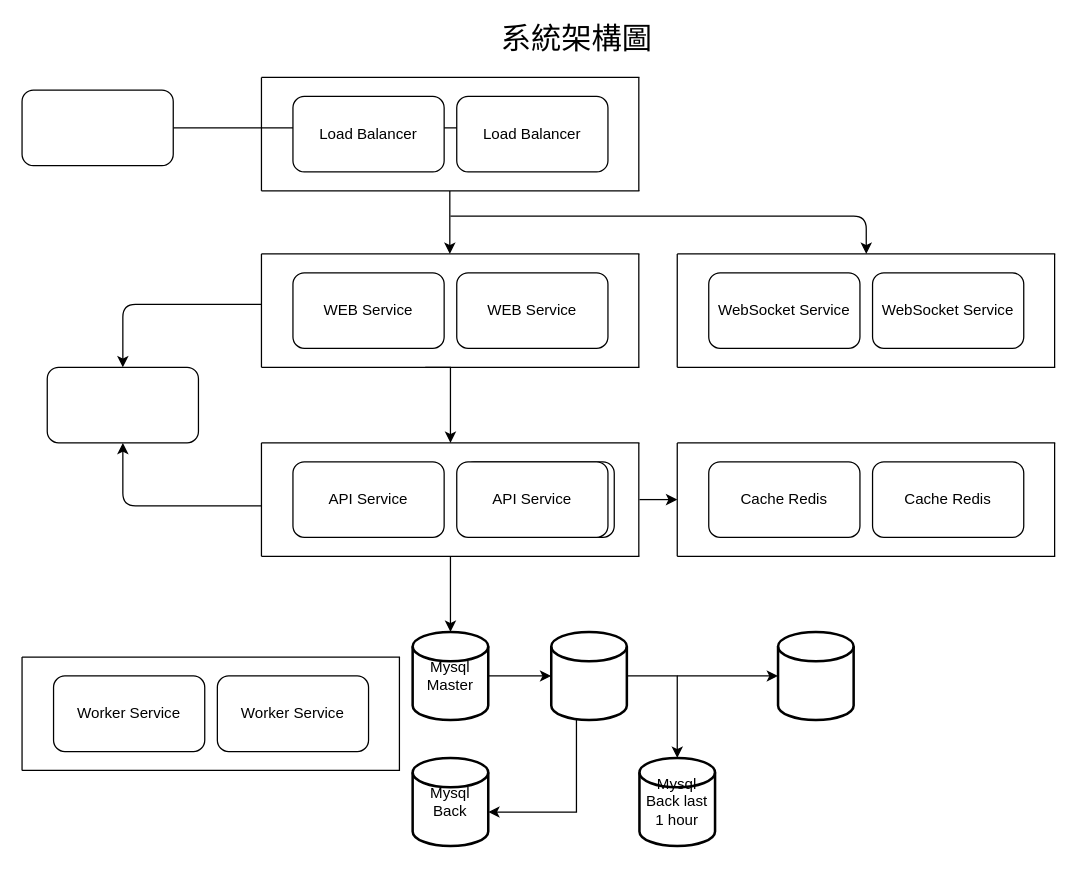
Image size: 1079x869. Some labels were removed from this diagram. Here are the shapes that lost their labels. From the top down, the centre of each, then its label:
[97,127]: Client
[122,404]: etcd
[588,675]: Mysql Slave
[815,675]: Mysql Reporting
